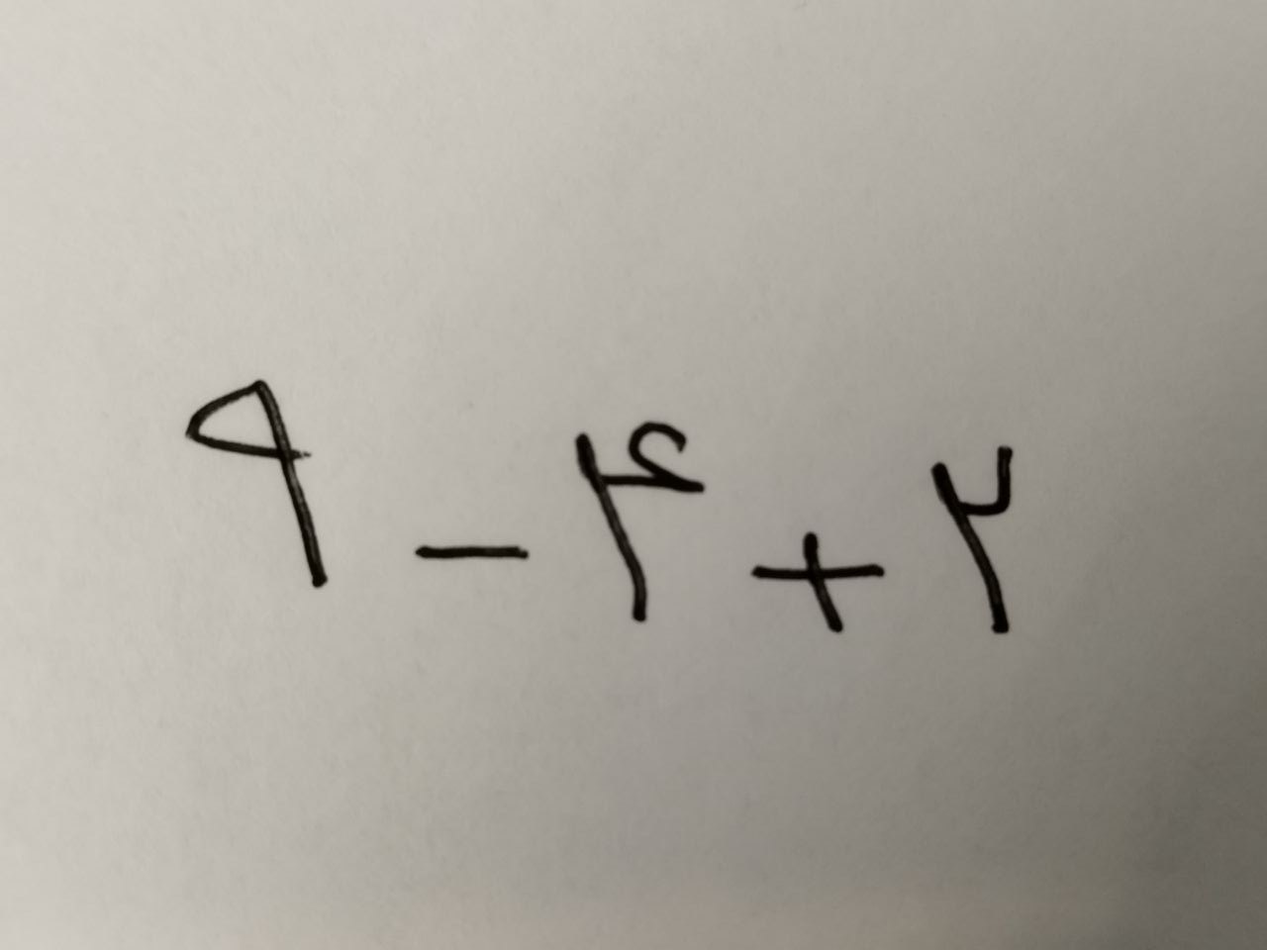character: (246, 284, 438, 442), (764, 315, 941, 467), (999, 397, 1178, 477), (1239, 333, 1267, 479), (553, 407, 708, 422)
